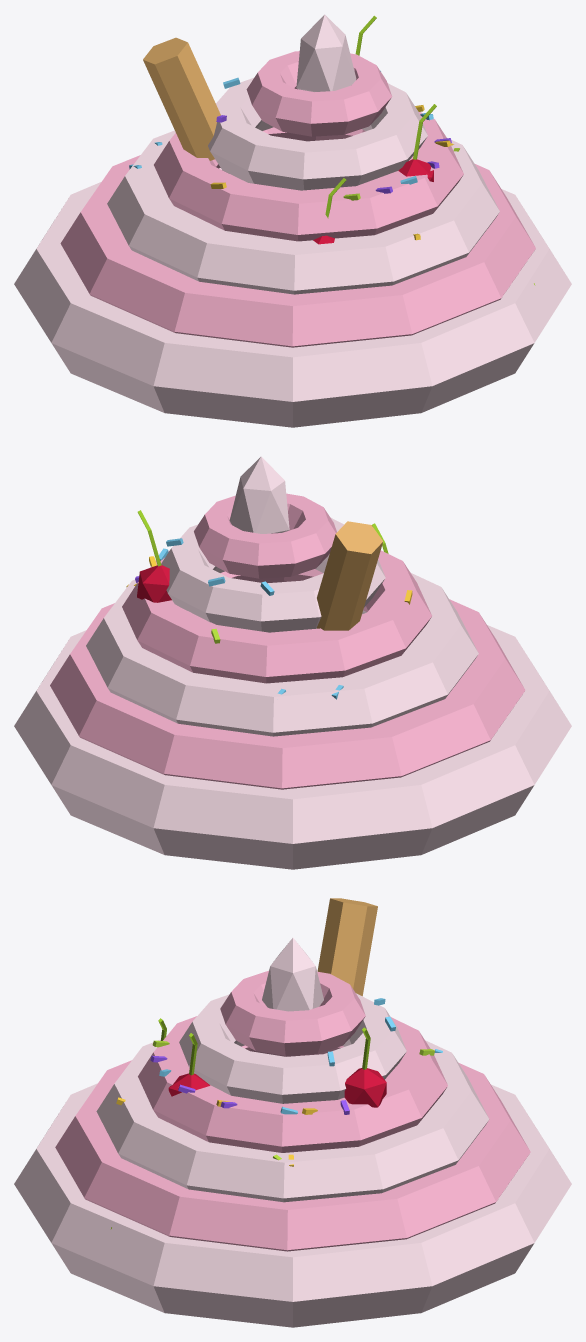
3 renders of one model, top to bottom at view 1: azimuth 30°, elevation 25°; view 2: azimuth 150°, elevation 25°; view 3: azimuth 270°, elevation 25°, orthographic.
Parts seen in each view (by area): view 1: swirl_0, swirl_1, swirl_2, swirl_3, swirl_4, swirl_5, wafer_cone, swirl_tip; view 2: swirl_0, swirl_1, swirl_2, swirl_3, swirl_4, swirl_5, wafer_cone, swirl_tip, cherry_2_fruit; view 3: swirl_0, swirl_1, swirl_2, swirl_3, swirl_4, swirl_5, wafer_cone, swirl_tip, cherry_2_fruit.
Boxes of the visible parts, box(x1,y1,x2,y2) form: swirl_0: box(14, 182, 571, 427); swirl_1: box(60, 155, 535, 347); swirl_2: box(107, 130, 499, 294); swirl_3: box(154, 112, 463, 241); swirl_4: box(208, 78, 427, 190); swirl_5: box(246, 51, 392, 136); wafer_cone: box(143, 37, 220, 160); swirl_tip: box(296, 14, 356, 91); swirl_0: box(14, 625, 571, 869); swirl_1: box(50, 599, 525, 789); swirl_2: box(86, 573, 478, 736); swirl_3: box(122, 550, 431, 683); swirl_4: box(161, 517, 385, 632); swirl_5: box(194, 493, 336, 578); wafer_cone: box(317, 521, 383, 630); swirl_tip: box(229, 456, 289, 533); cherry_2_fruit: box(137, 565, 171, 602); swirl_0: box(14, 1083, 571, 1327); swirl_1: box(55, 1060, 530, 1251); swirl_2: box(96, 1039, 489, 1202); swirl_3: box(138, 1016, 447, 1152); swirl_4: box(179, 993, 406, 1103); swirl_5: box(220, 970, 365, 1055); wafer_cone: box(317, 898, 377, 996); swirl_tip: box(262, 938, 323, 1011); cherry_2_fruit: box(344, 1068, 386, 1107).
Bounding box in the file's own units: 2.74 × 1.61 × 2.74.
